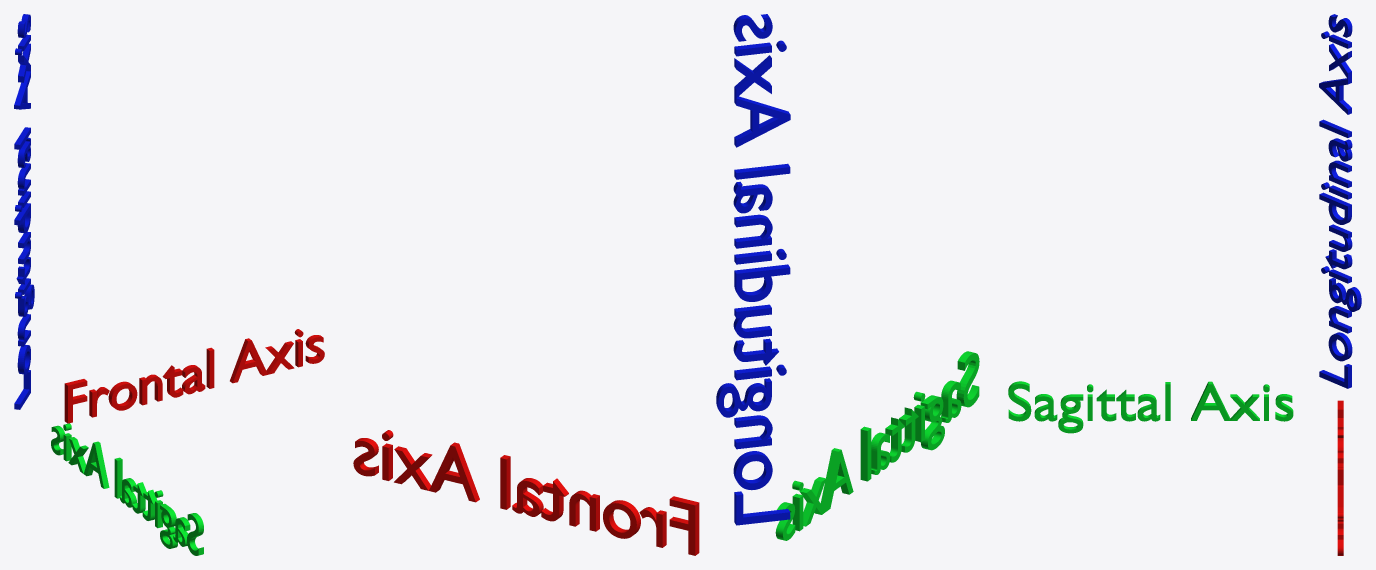
The model's file is Axes.fbx.
3 views of the same model, side by side, from view 1: azimuth 30°, elevation 25°; view 2: azimuth 150°, elevation 25°; view 3: azimuth 270°, elevation 25° (orthographic). The views are drawn at different scales.
Parts seen in each view (by area): view 1: Text.001, Text, Text.002; view 2: Text.002, Text.001, Text; view 3: Text.002, Text, Text.001.
Boxes of the visible parts, <box> form: Text.001: <box>64,329,324,423</box>; Text: <box>51,423,203,555</box>; Text.002: <box>14,14,34,409</box>; Text.002: <box>716,14,790,525</box>; Text.001: <box>353,430,699,555</box>; Text: <box>775,351,979,540</box>; Text.002: <box>1319,14,1361,388</box>; Text: <box>1008,381,1293,433</box>; Text.001: <box>1337,400,1343,555</box>.
Bounding box in the file's own units: 598 × 768 × 596.
